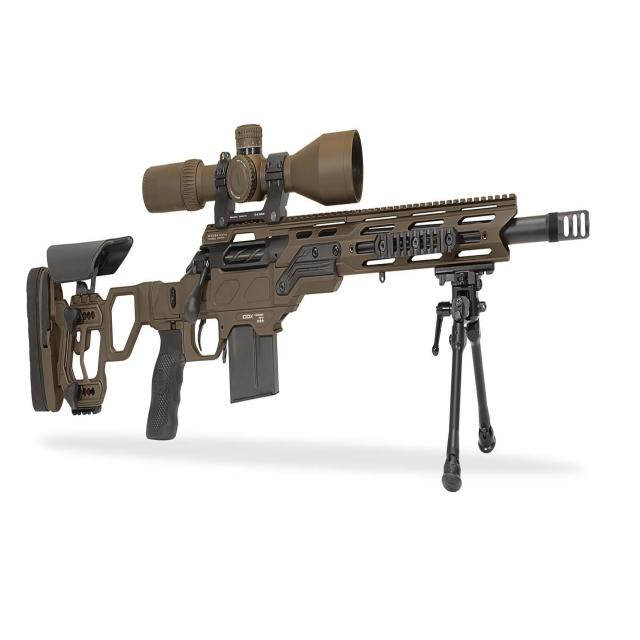Rifle: (26, 124, 593, 494)
